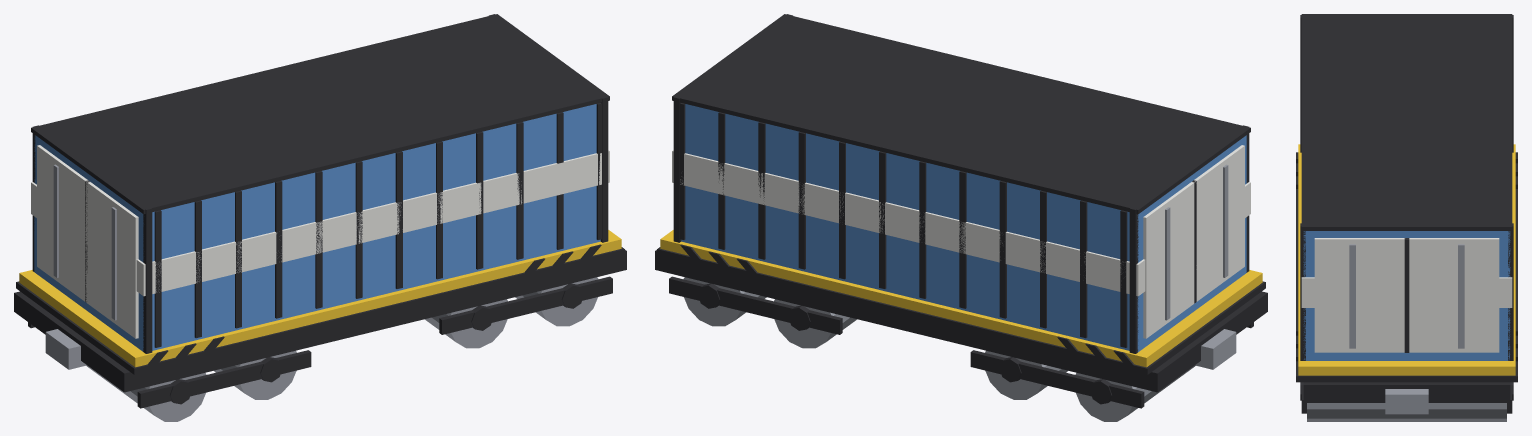
File: Cargo_container.fbx
3 renders of one model, left to right at view 1: azimuth 30°, elevation 25°; view 2: azimuth 150°, elevation 25°; view 3: azimuth 270°, elevation 25°, orthographic. The views are drawn at different scales.
Visible parts, largest first — view 1: Cargo_container; view 2: Cargo_container; view 3: Cargo_container.
Boxes of the visible parts, <box> form: Cargo_container: <box>14,14,626,421</box>; Cargo_container: <box>655,14,1267,421</box>; Cargo_container: <box>1296,14,1517,421</box>.
Bounding box in the file's own units: 5.24 × 2.12 × 2.04.
